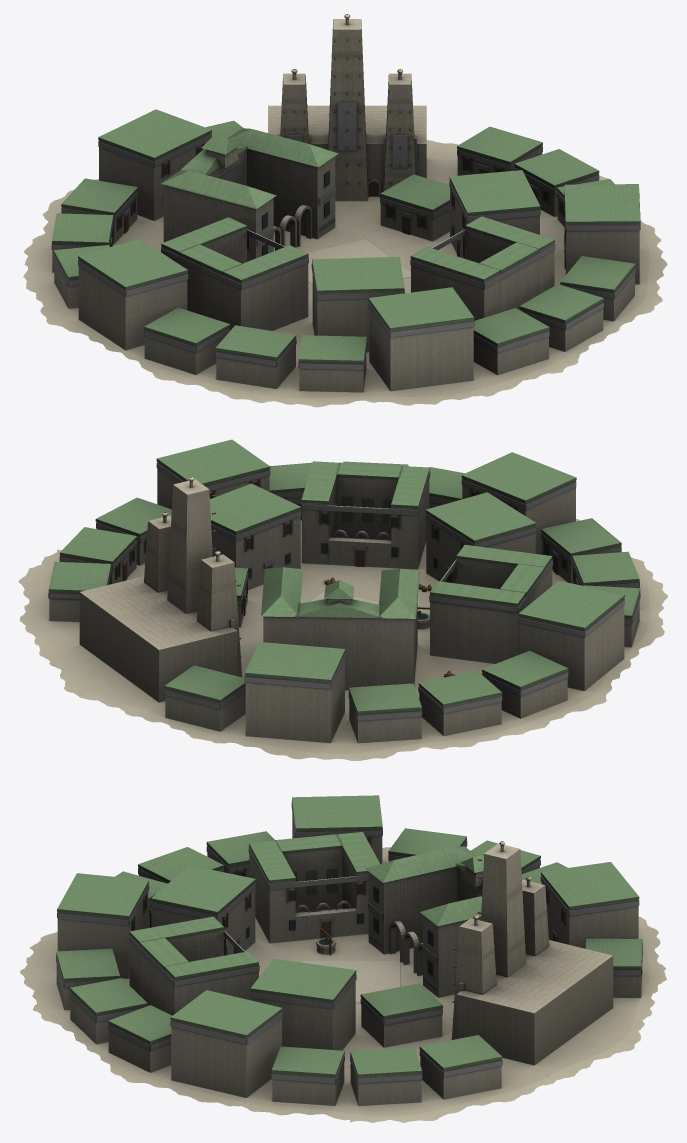
Rendered from gunpowder-town-big-a-maghreb-e2bf25a7.glb.
The picture shows the model from 3 angles, top to bottom: view 1: azimuth 30°, elevation 25°; view 2: azimuth 150°, elevation 25°; view 3: azimuth 270°, elevation 25°; orthographic projection.
Parts seen in each view (by area): view 1: LOD0; view 2: LOD0; view 3: LOD0.
Boxes of the visible parts, x1,y1,x2,y2 form: LOD0: (23,14,667,407); LOD0: (18,439,667,760); LOD0: (20,795,666,1122).
Size of what is drawn, in the model's own units: 8.04 by 2.39 by 7.94.
3 materials, 3 textured.
